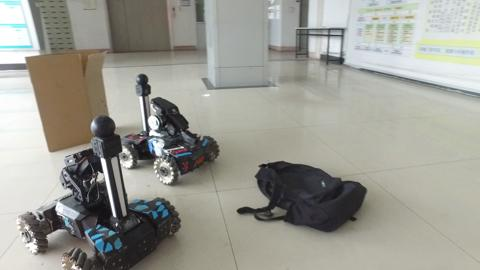bag: (244, 157, 370, 239)
box: (27, 54, 108, 145)
chariot: (22, 114, 187, 269), (117, 73, 224, 182)
